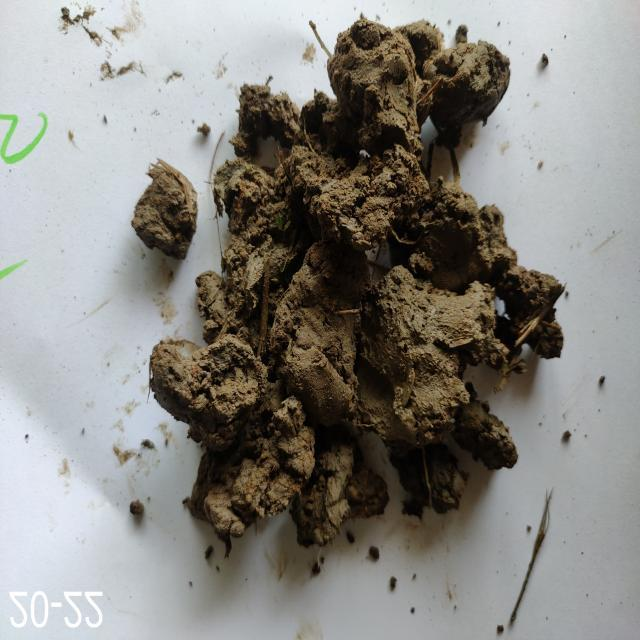soil: (252, 110, 438, 470)
